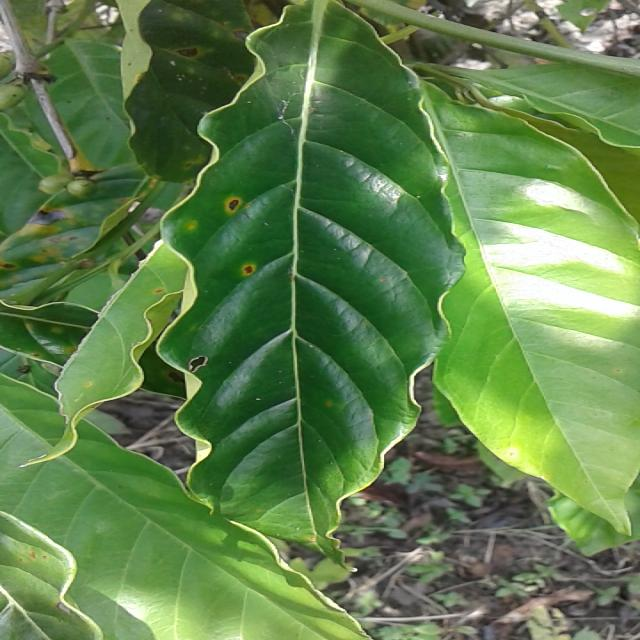Enfermedad-Roya: (154, 0, 460, 580)
